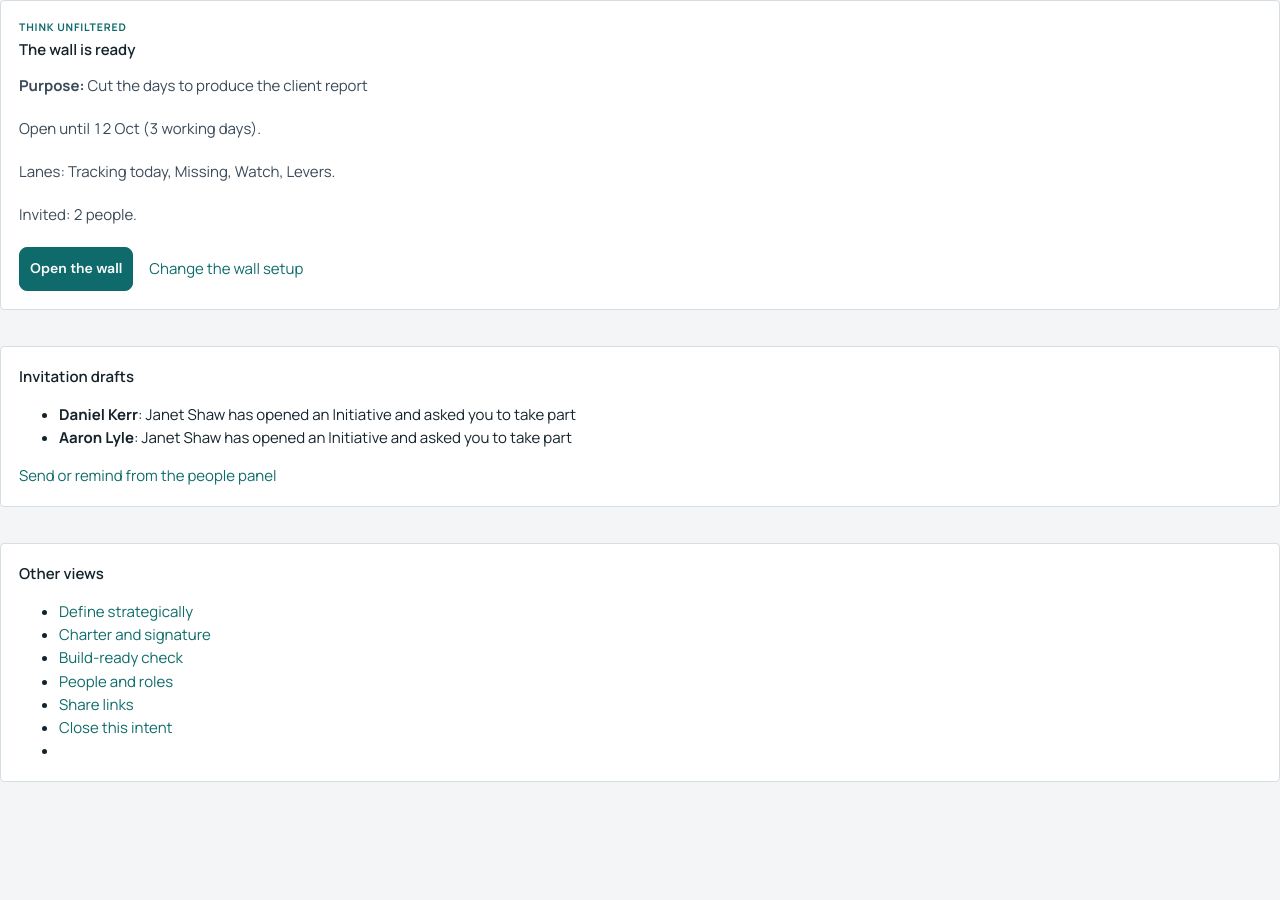
Scenario: the Initiative stage view › Open the wall starts the room once and then shows the invite panel
The image size is (1280, 900).
Click the button "Open the wall" at (76,268), box [19,246,133,290]
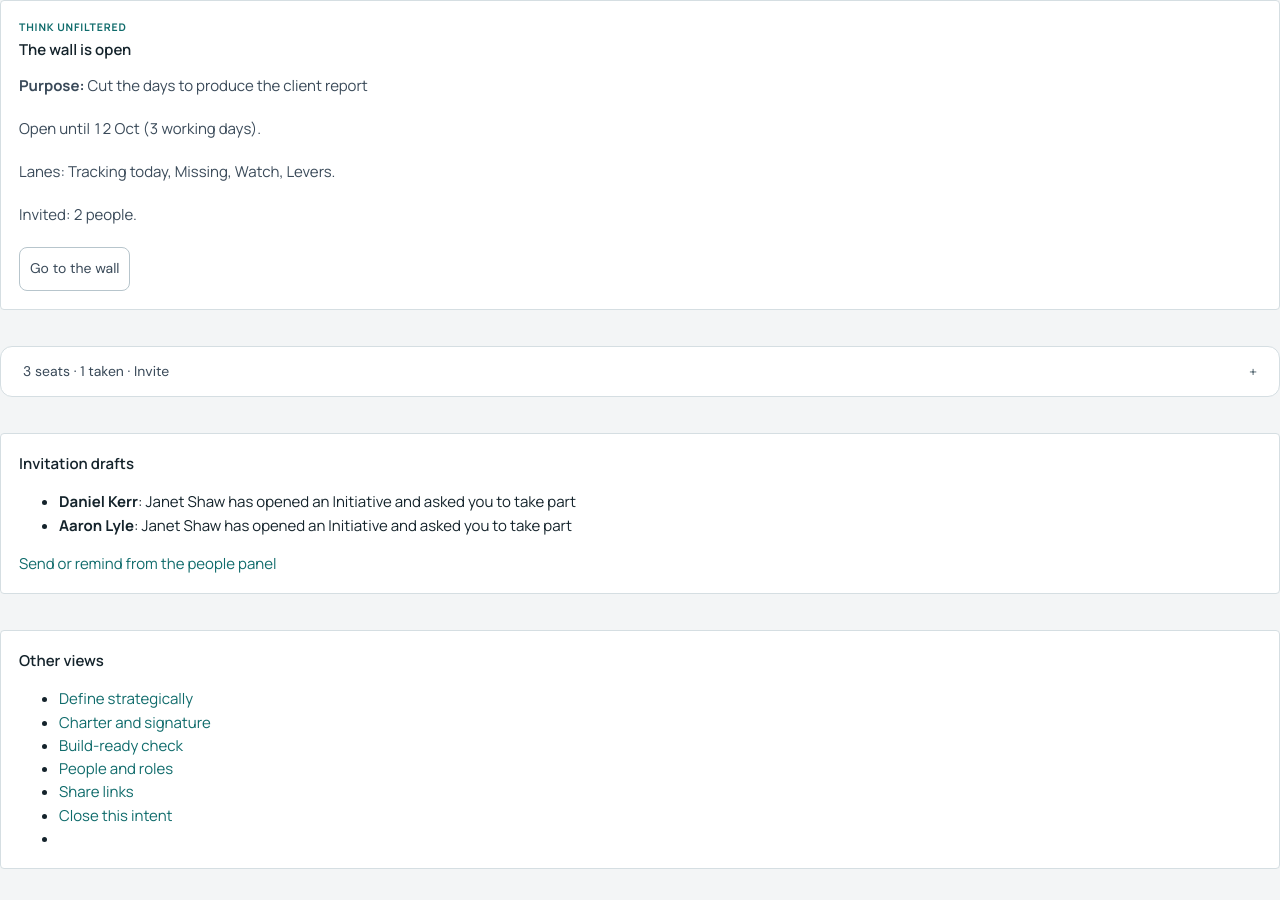
Now the heading "The wall is open" is shown, box [19,38,131,62]
Now the button "Open the wall" is gone
Now the element "Invite" is shown, box [0,346,1279,397]
